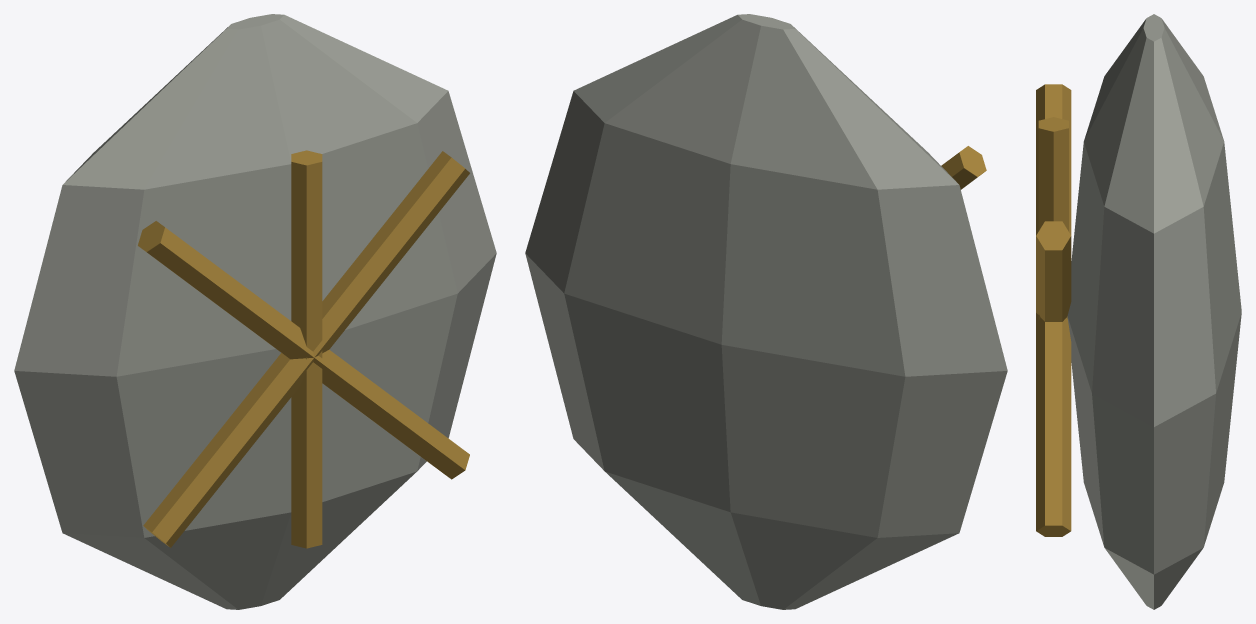
File: chaosRunes.glb
The picture shows the model from 3 angles, left to right: view 1: azimuth 30°, elevation 25°; view 2: azimuth 150°, elevation 25°; view 3: azimuth 270°, elevation 25°; orthographic projection. The views are drawn at different scales.
Visible parts, largest first — view 1: chaosRunes; view 2: chaosRunes; view 3: chaosRunes.
Boxes of the visible parts, x1,y1,x2,y2 form: chaosRunes: [14, 14, 496, 609]; chaosRunes: [525, 14, 1007, 609]; chaosRunes: [1036, 14, 1241, 609].
Bounding box in the file's own units: 0.87 × 1 × 0.328.
